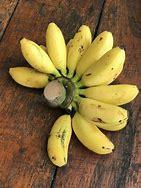banana: (1, 26, 129, 159), (67, 95, 128, 123), (72, 119, 116, 155), (75, 47, 123, 78), (80, 82, 139, 105), (47, 115, 71, 165), (43, 20, 65, 71), (9, 63, 46, 86)
